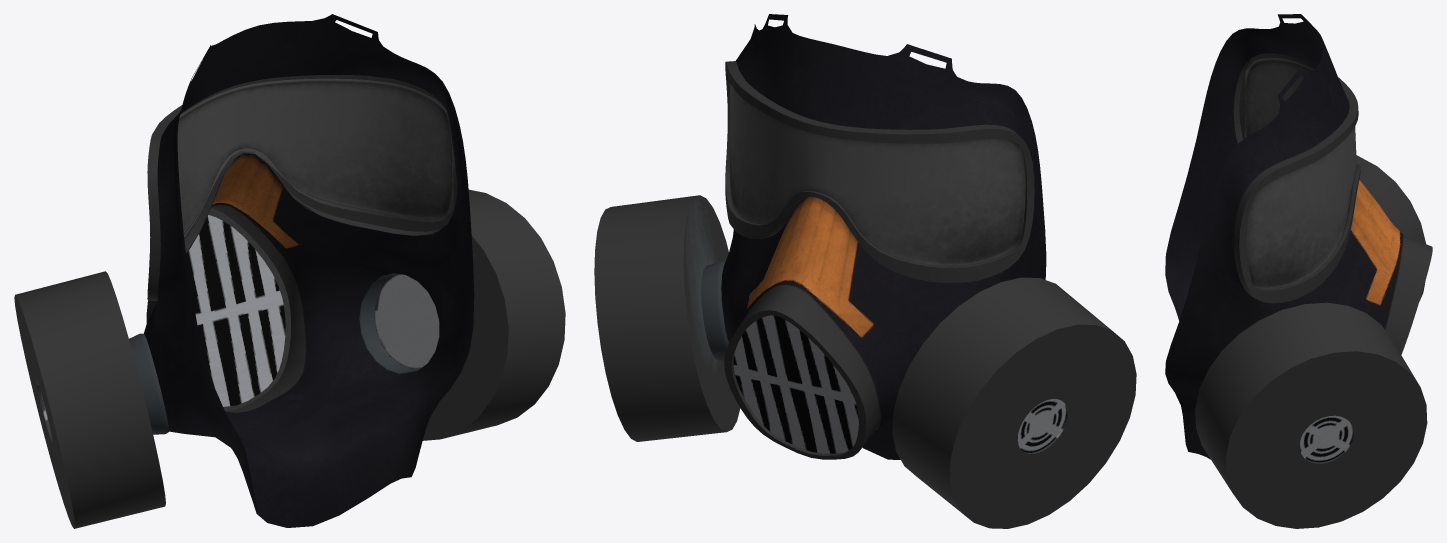
The model's file is gasMask3.gltf.
3 views of the same model, side by side, from view 1: azimuth 30°, elevation 25°; view 2: azimuth 150°, elevation 25°; view 3: azimuth 270°, elevation 25° (orthographic). The views are drawn at different scales.
Parts seen in each view (by area): view 1: gasMask3; view 2: gasMask3; view 3: gasMask3.
Boxes of the visible parts, <box> form: gasMask3: <box>14,14,565,528</box>; gasMask3: <box>594,14,1136,528</box>; gasMask3: <box>1165,14,1432,528</box>.
Size of the model in its own units: 1.33 by 1.17 by 0.6746.
Materials: 1 (1 with a texture image).
